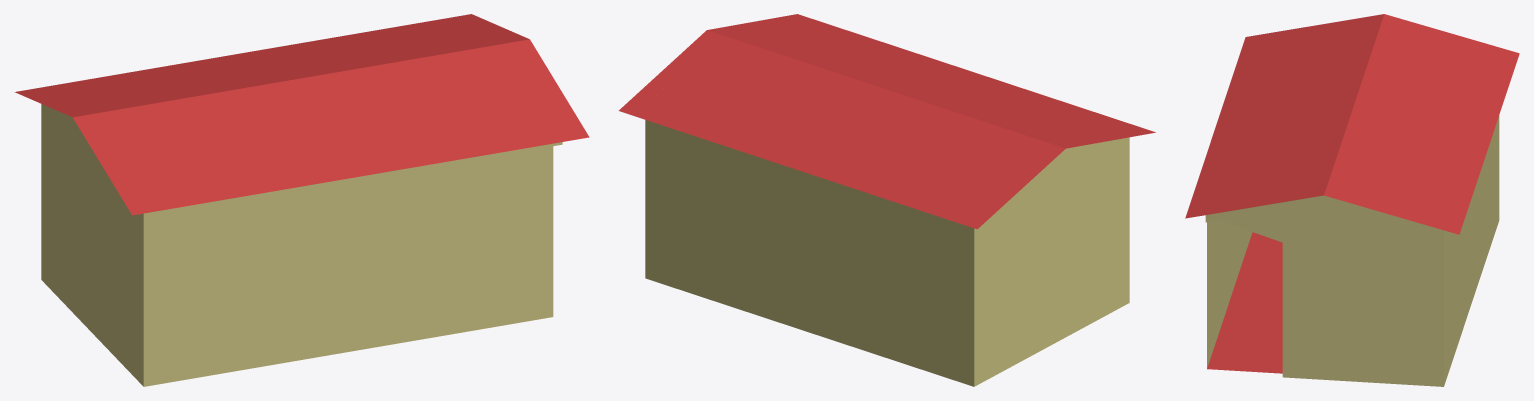
The picture shows the model from 3 angles, left to right: view 1: azimuth 30°, elevation 25°; view 2: azimuth 150°, elevation 25°; view 3: azimuth 270°, elevation 25°; orthographic projection. The views are drawn at different scales.
Bounding box in the file's own units: 19.27 × 13.77 × 8.73.
